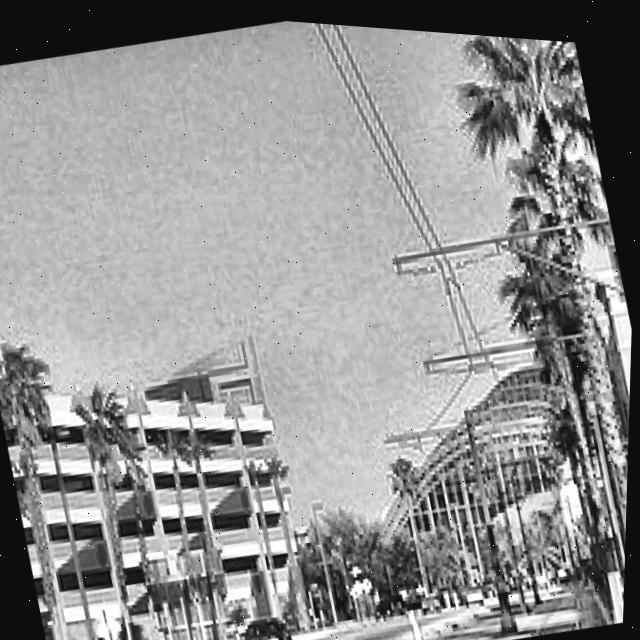light_vehicle: (234, 607, 303, 640)
